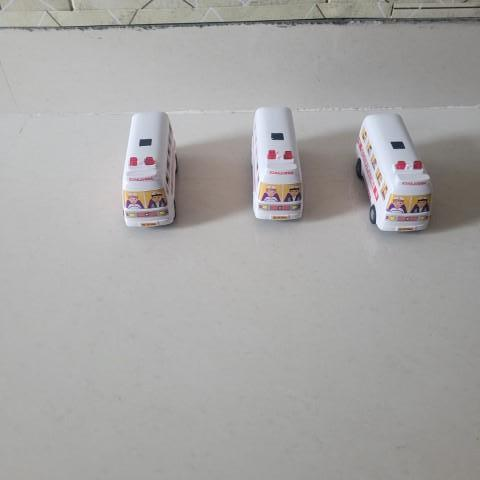ambulance: (354, 108, 435, 238), (121, 109, 182, 235), (250, 105, 307, 224)
